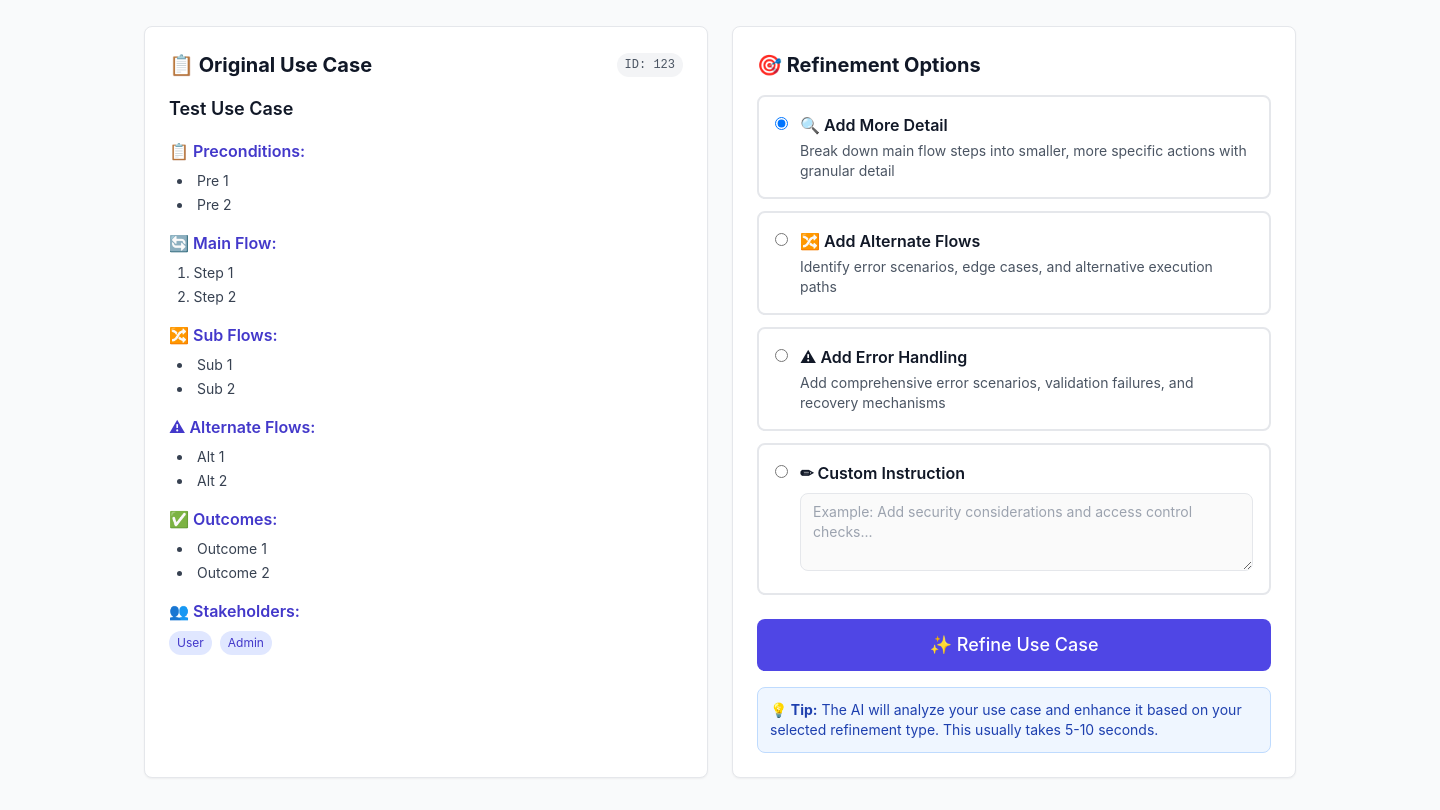
Scenario: UseCaseRefine Component › Refinement Process › shows loading state during refinement
(page scrolled)
Click the button "✨ Refine Use Case": [1014, 645] box [757,619,1271,671]
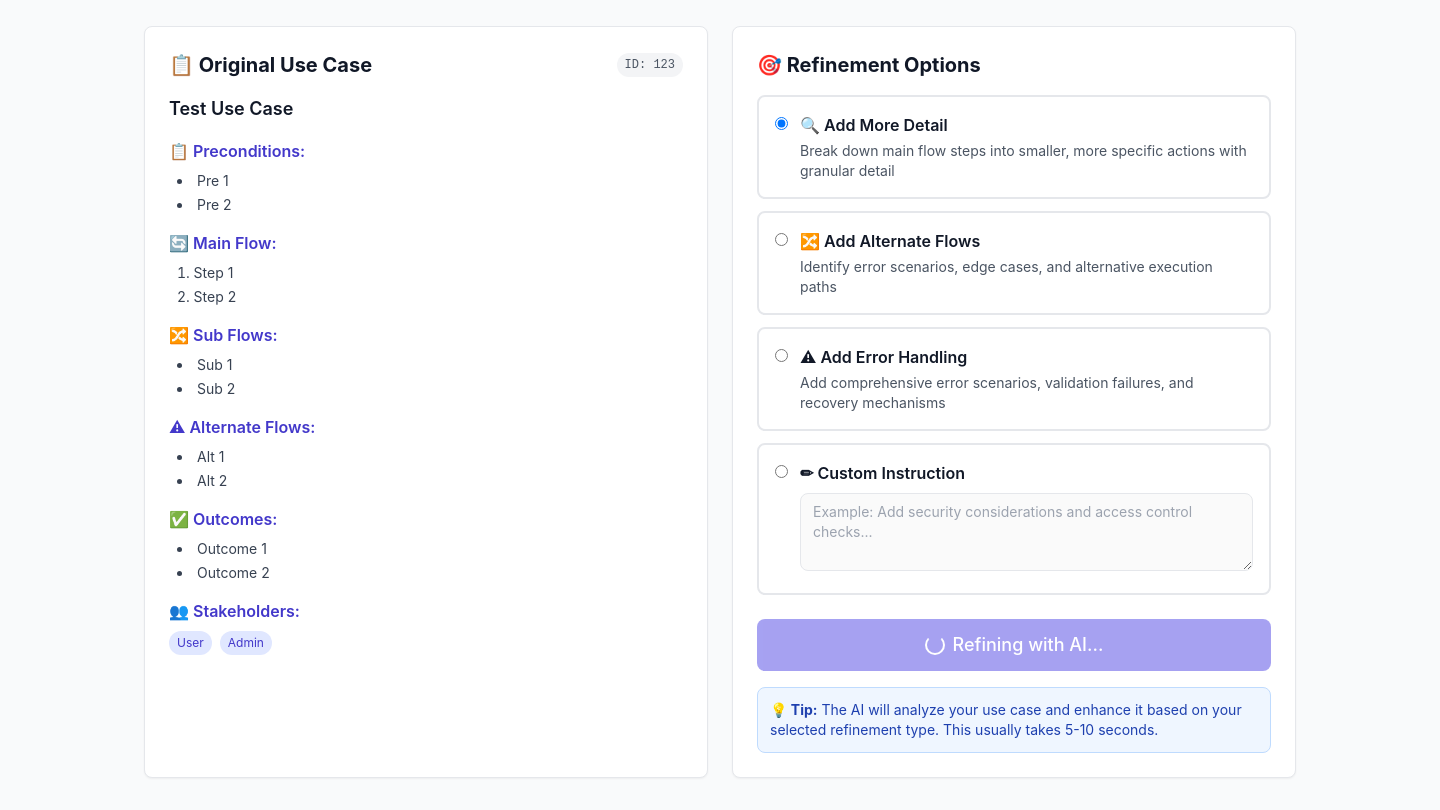
Result: the text "Refining with AI..." is shown at [925,634,1103,655]
Result: the button named "Refine Use Case" is disabled at [757,619,1271,671]
